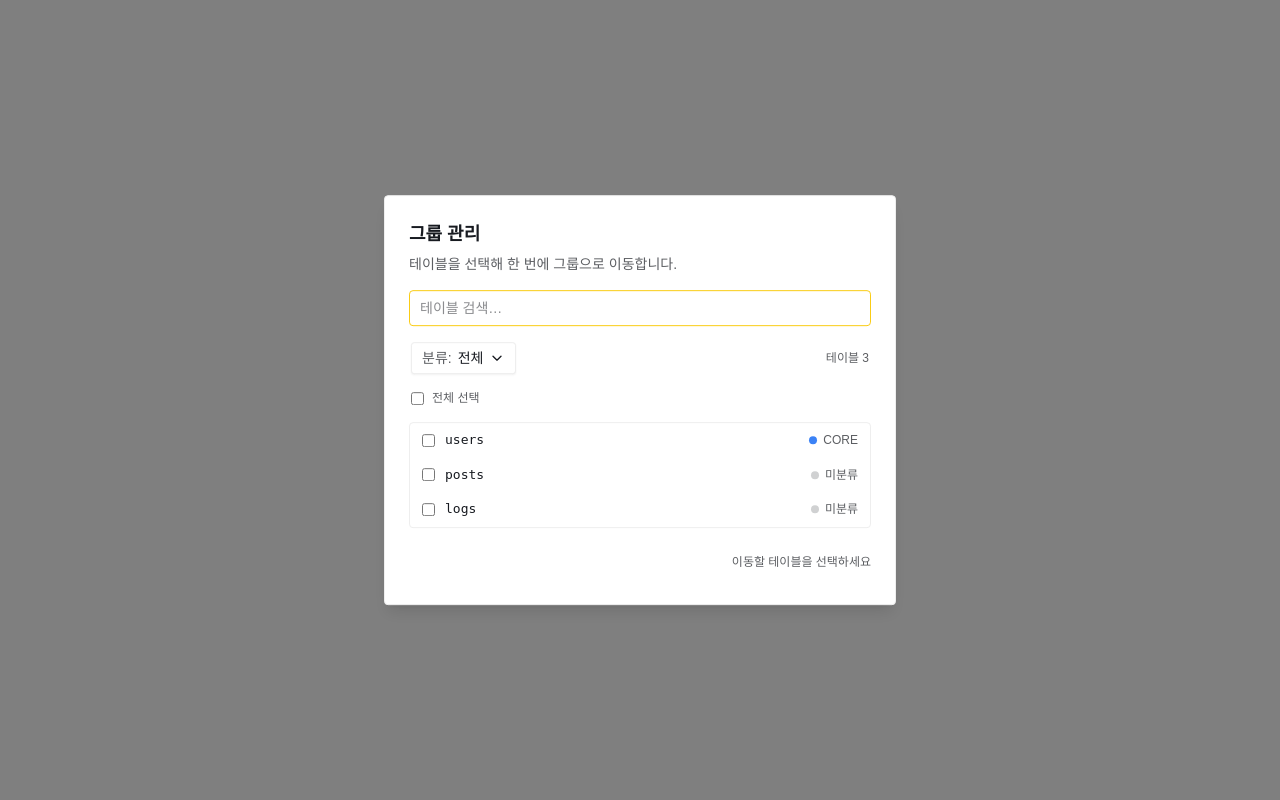
Test: ManageGroupsDialog › group filter: a specific group shows only its tables
Click the button with test id "mg-groupfilter-trigger".
click(464, 358)  # box [411, 342, 516, 374]
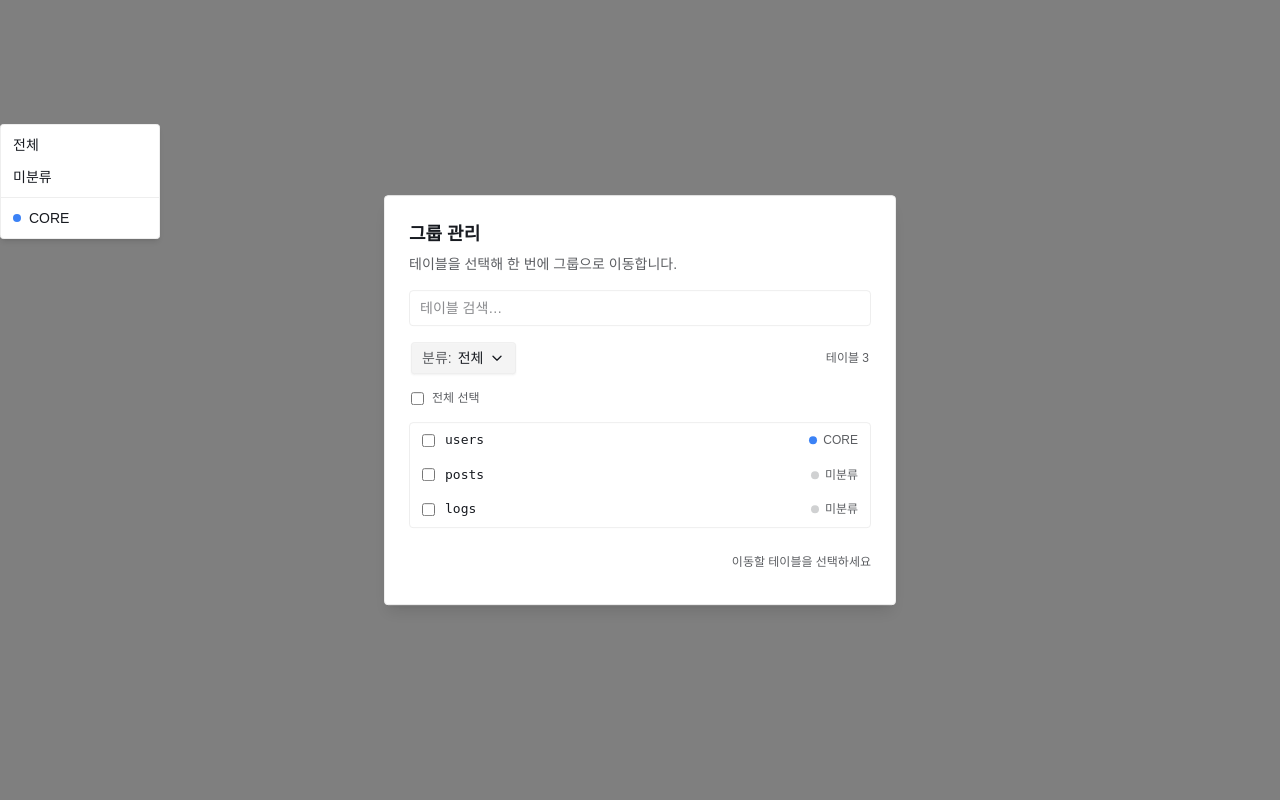
Click the menu item with test id "mg-groupfilter-CORE".
click(41, 218)  # box [13, 210, 70, 226]
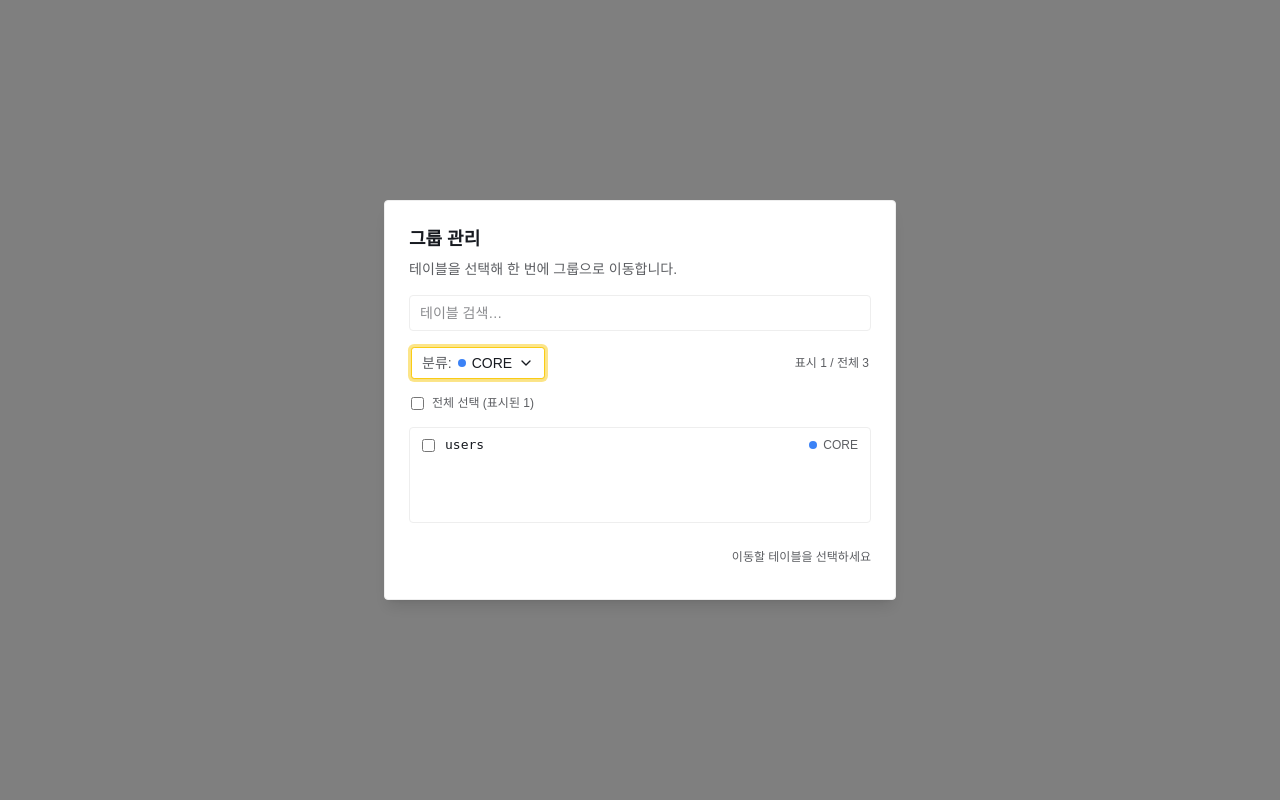
Expected: the text "users CORE" is shown, [422, 437, 858, 452]
Expected: the label with test id "mg-row-posts" is gone
Expected: the label with test id "mg-row-logs" is gone
